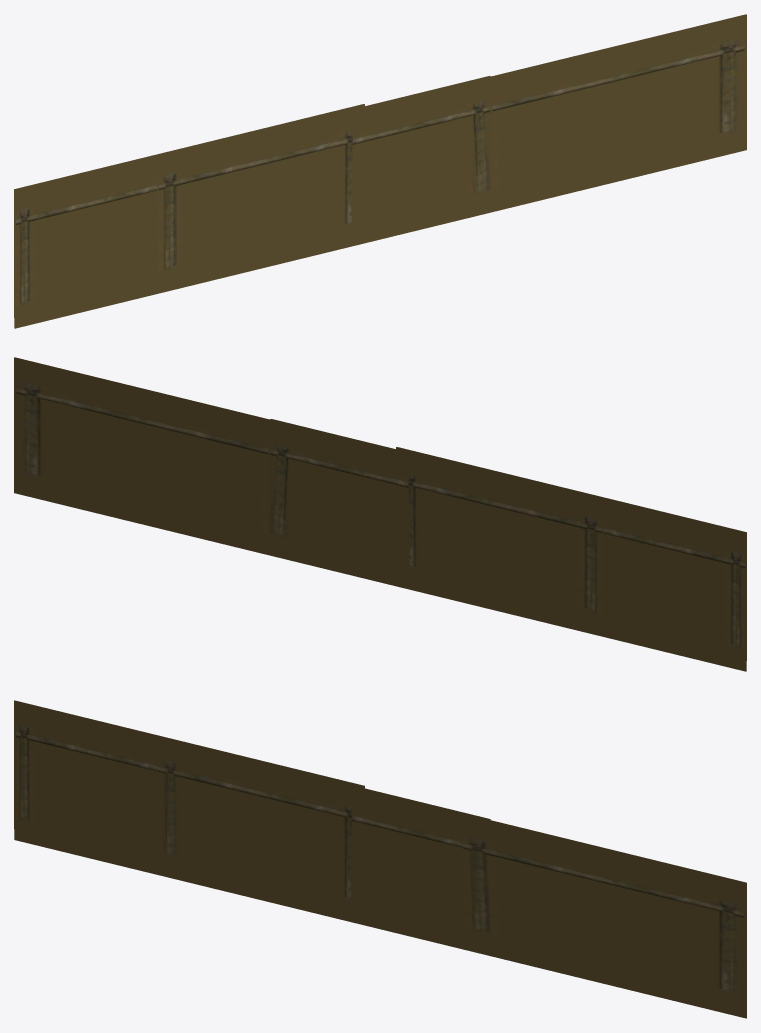
Rendered from thm_endr_lake_rail8m_l3.fbx.
The picture shows the model from 3 angles, top to bottom: view 1: azimuth 30°, elevation 25°; view 2: azimuth 150°, elevation 25°; view 3: azimuth 330°, elevation 25°; orthographic projection.
Visible parts, largest first — view 1: mesh_node; view 2: mesh_node; view 3: mesh_node.
Boxes of the visible parts, x1,y1,x2,y2 form: mesh_node: [14, 14, 746, 328]; mesh_node: [14, 357, 746, 671]; mesh_node: [14, 700, 746, 1018].
Bounding box in the file's own units: 8.05 × 1.46 × 0.00908.
Materials: 1 (1 with a texture image).
